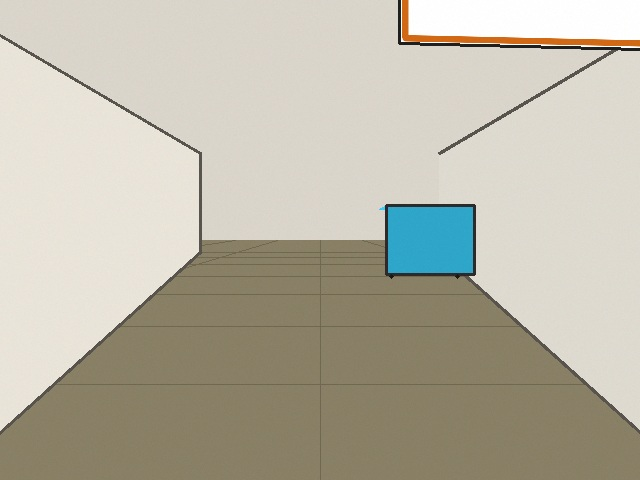cart: (379, 205, 474, 274)
directional_sign: (399, 0, 639, 51)
